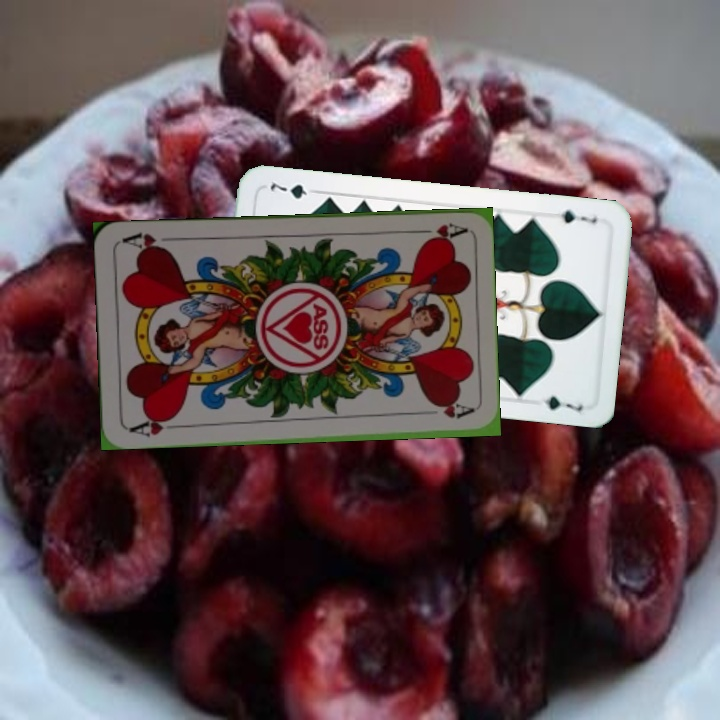G7: (548, 206, 600, 226)
HA: (125, 412, 184, 440), (408, 219, 467, 244)
